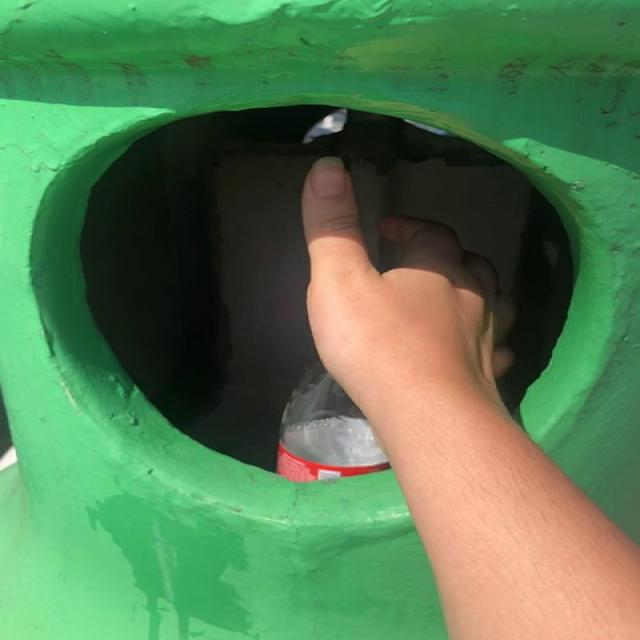glass: (277, 364, 391, 482)
